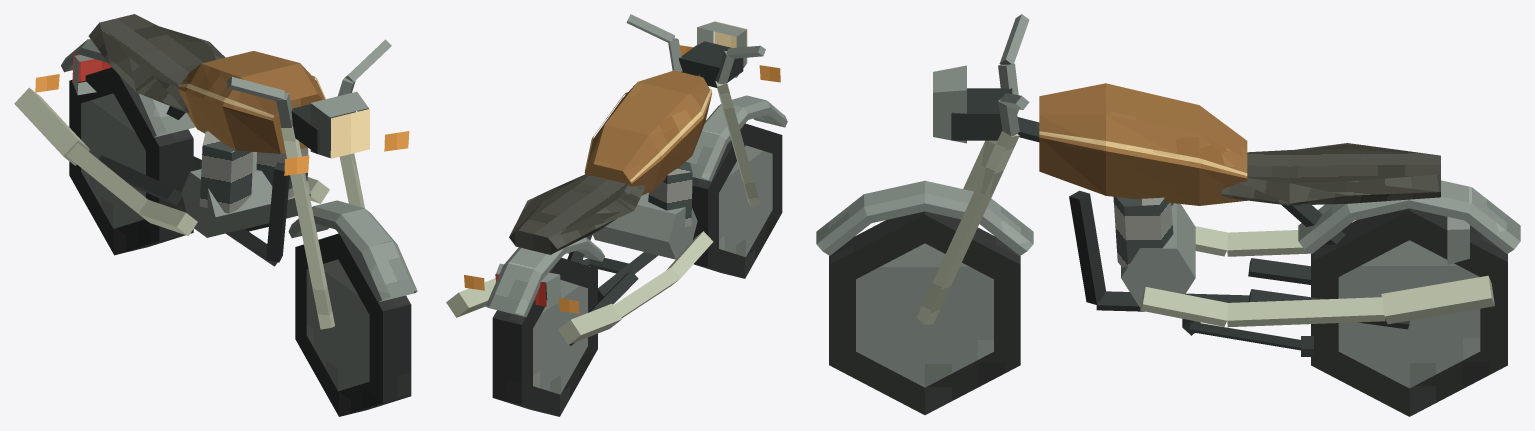
File: marrowfield-1974-mid.glb
The picture shows the model from 3 angles, left to right: view 1: azimuth 30°, elevation 25°; view 2: azimuth 150°, elevation 25°; view 3: azimuth 270°, elevation 25°; orthographic projection. The views are drawn at different scales.
Visible parts, largest first — view 1: body, Low detail tyre, Low detail tyre.001, Distance hub, Front valanced or bobbed mudguard, Distance hub.002, Fork leg, Lamp lens, Stove enamel lamp bucket, Lamp mounting yoke, Fork leg.001, Swept handlebar (+7 smaller); view 2: body, Low detail tyre.001, Low detail tyre, Distance hub, Distance hub.002, Front valanced or bobbed mudguard, Lamp mounting yoke, Fork leg, Stove enamel lamp bucket, Stove enamel lamp bucket.001, Swept handlebar.001, Swept handlebar (+4 smaller); view 3: body, Low detail tyre, Low detail tyre.001, Distance hub.001, Distance hub.003, Front valanced or bobbed mudguard, Fork leg.001, Lamp mounting yoke, Stove enamel lamp bucket, Folding stand leg, Stove enamel lamp bucket.001, Swept handlebar (+1 smaller).
Boxes of the visible parts, x1=… form: body: x1=14, y1=14, x2=329, y2=266; Low detail tyre: x1=295, y1=233, x2=411, y2=416; Low detail tyre.001: x1=69, y1=67, x2=193, y2=255; Distance hub: x1=306, y1=259, x2=369, y2=391; Front valanced or bobbed mudguard: x1=288, y1=200, x2=417, y2=301; Distance hub.002: x1=81, y1=93, x2=145, y2=228; Fork leg: x1=281, y1=126, x2=334, y2=329; Lamp lens: x1=331, y1=109, x2=369, y2=158; Stove enamel lamp bucket: x1=310, y1=91, x2=368, y2=157; Lamp mounting yoke: x1=291, y1=104, x2=355, y2=154; Fork leg.001: x1=339, y1=153, x2=364, y2=208; Swept handlebar: x1=227, y1=76, x2=284, y2=100; body: x1=446, y1=70, x2=713, y2=345; Low detail tyre.001: x1=492, y1=257, x2=597, y2=416; Low detail tyre: x1=692, y1=123, x2=782, y2=278; Distance hub: x1=719, y1=145, x2=772, y2=257; Distance hub.002: x1=533, y1=279, x2=587, y2=394; Front valanced or bobbed mudguard: x1=686, y1=95, x2=787, y2=181; Lamp mounting yoke: x1=679, y1=41, x2=743, y2=87; Fork leg: x1=715, y1=81, x2=760, y2=207; Stove enamel lamp bucket: x1=697, y1=22, x2=746, y2=77; Stove enamel lamp bucket.001: x1=496, y1=263, x2=561, y2=305; Swept handlebar.001: x1=626, y1=14, x2=674, y2=42; Swept handlebar: x1=726, y1=45, x2=765, y2=58; body: x1=1017, y1=83, x2=1520, y2=335; Low detail tyre: x1=829, y1=211, x2=1020, y2=414; Low detail tyre.001: x1=1311, y1=208, x2=1507, y2=416; Distance hub.001: x1=856, y1=243, x2=993, y2=387; Distance hub.003: x1=1338, y1=240, x2=1480, y2=388; Front valanced or bobbed mudguard: x1=816, y1=180, x2=1033, y2=255; Fork leg.001: x1=916, y1=131, x2=1019, y2=324; Lamp mounting yoke: x1=951, y1=88, x2=1012, y2=140; Stove enamel lamp bucket: x1=933, y1=65, x2=966, y2=143; Folding stand leg: x1=1189, y1=322, x2=1307, y2=350; Stove enamel lamp bucket.001: x1=1447, y1=217, x2=1469, y2=264; Swept handlebar: x1=999, y1=14, x2=1029, y2=64.
Bounding box in the file's own units: 0.648 × 1.14 × 2.05.
5 materials, 5 textured.
